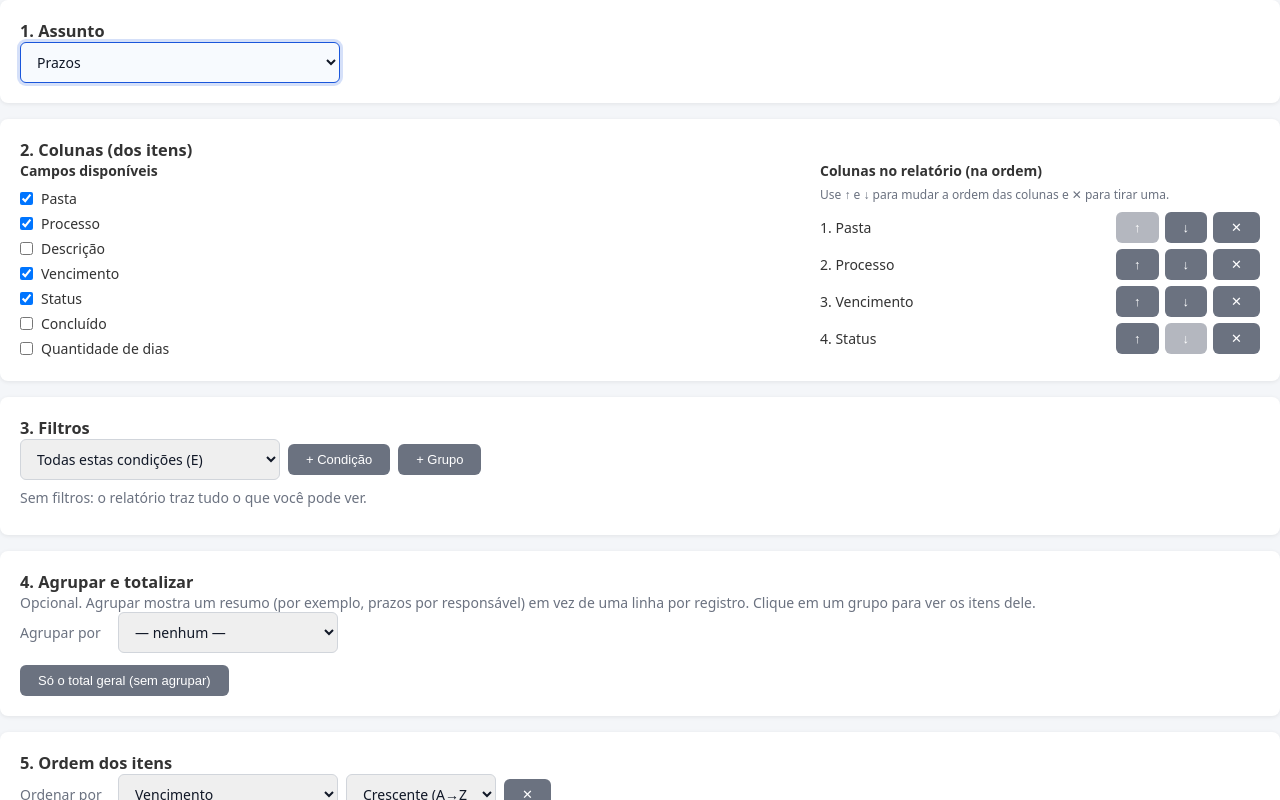
Relatórios (tela nova) › perguntar ao abrir: pergunta antes de rodar, só libera com tudo respondido e envia as respostas por caminho
Earlier steps of the test are not shown.
Click the button "+ Condição".
click(339, 460)  # box [288, 444, 390, 475]
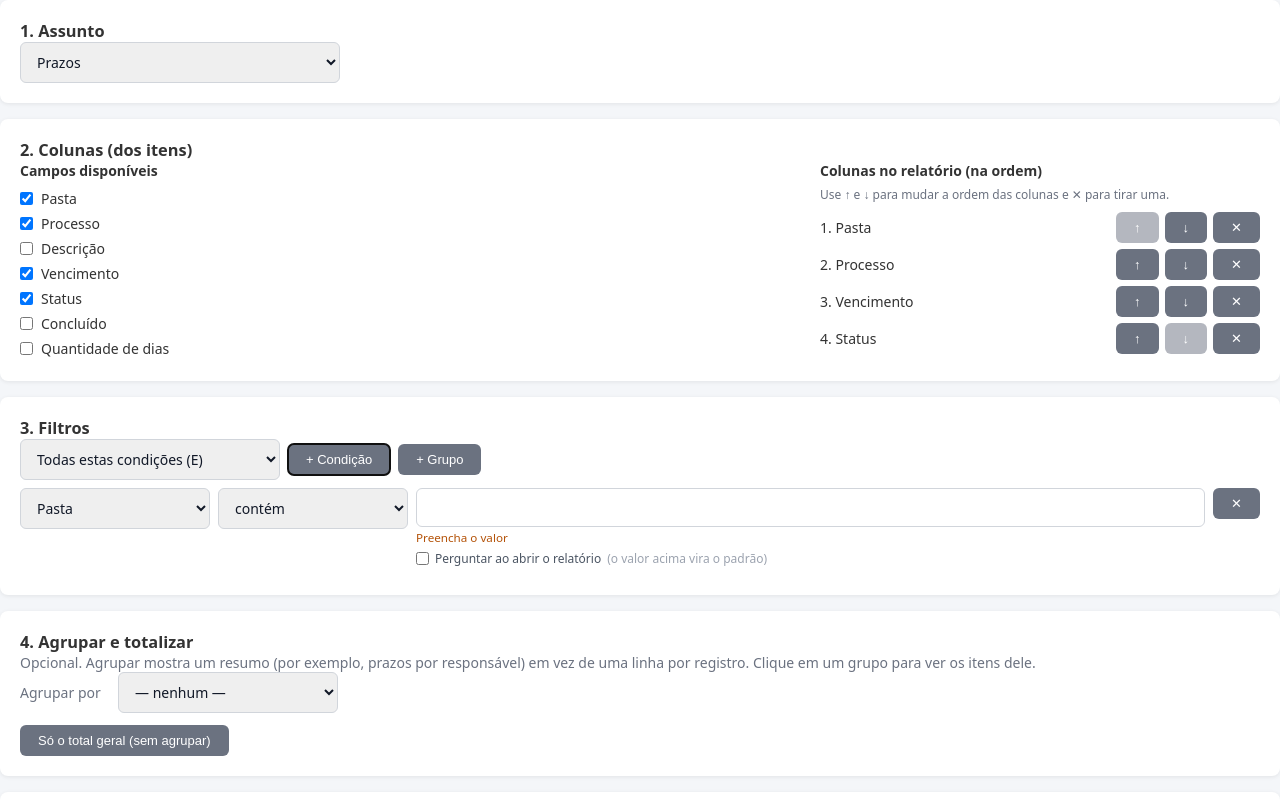
Click the checkbox labelled "Perguntar ao abrir o relatório (o valor acima vira o padrão)".
click(422, 558)  # box [416, 552, 429, 565]
(page scrolled)
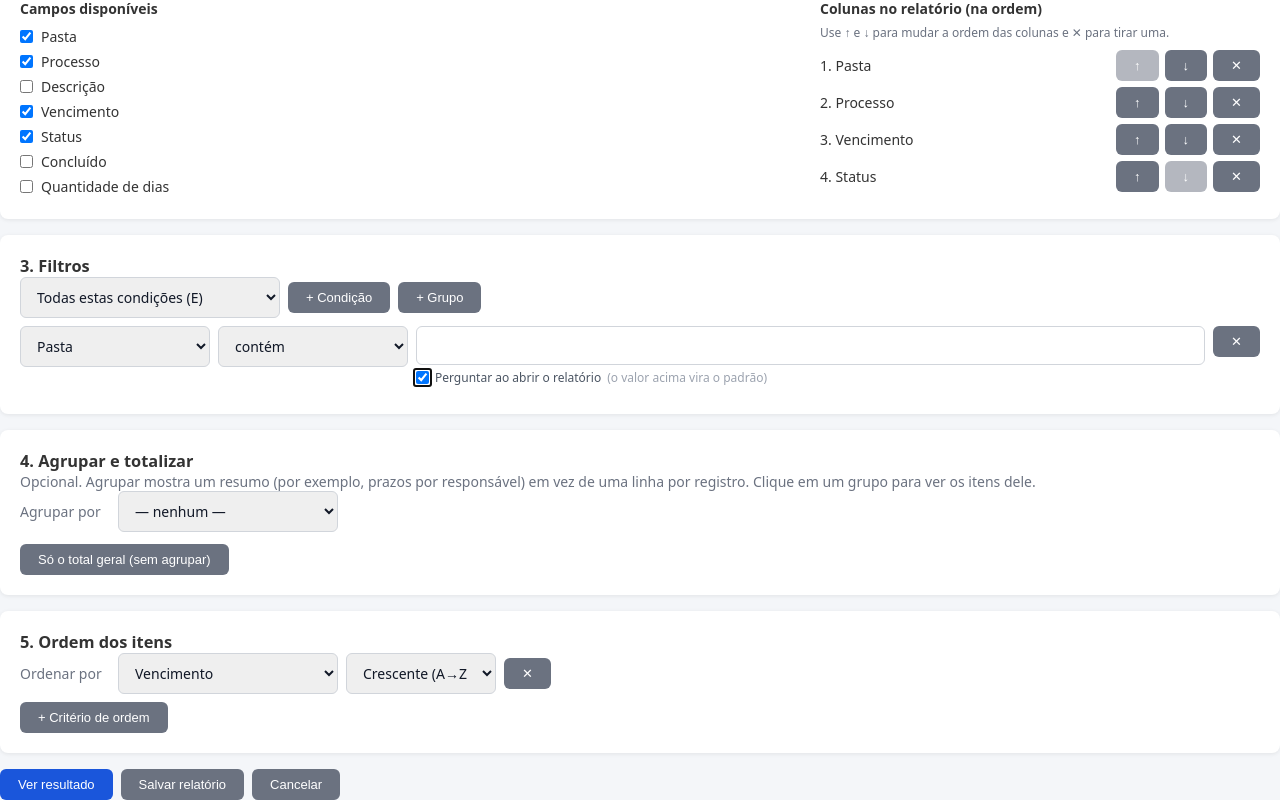
expect the text "Preencha o valor" is gone: met
Click the button "Ver resultado".
click(56, 784)  # box [0, 769, 113, 799]
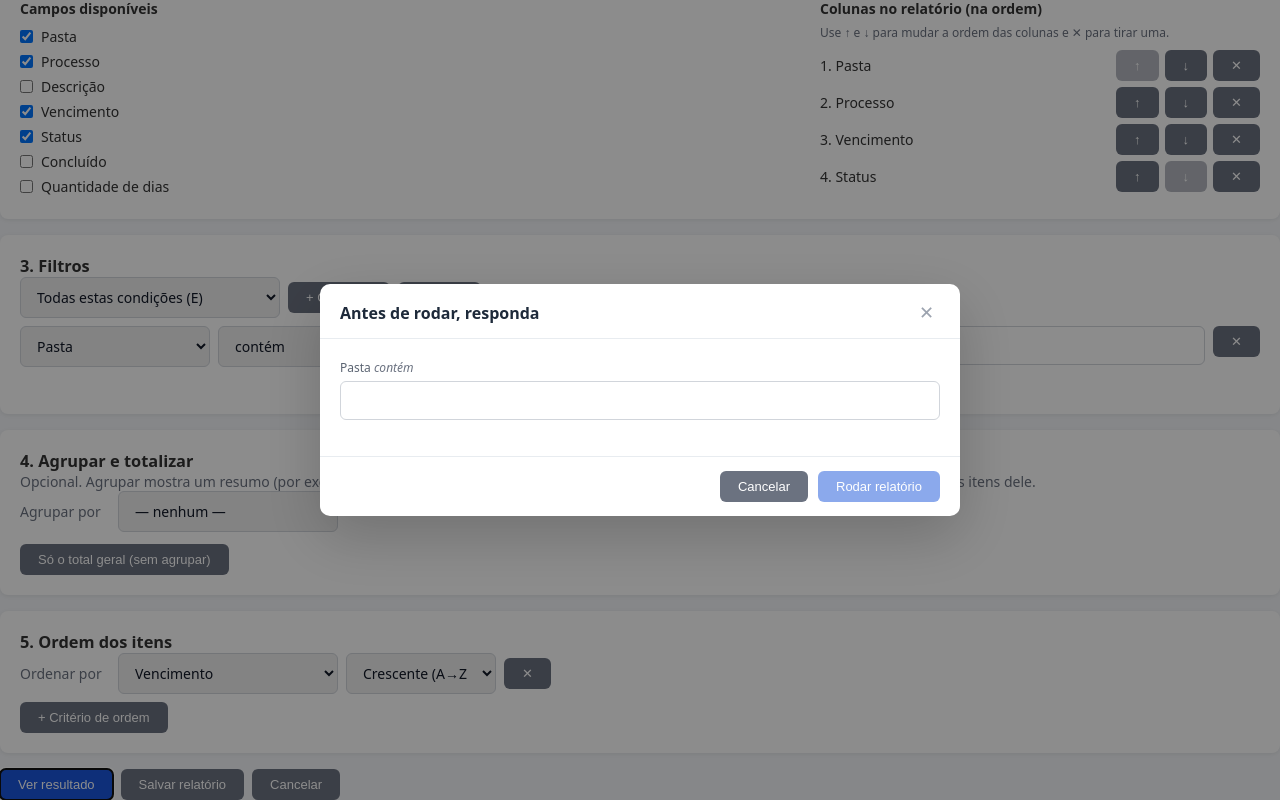
expect the button "Rodar relatório" is disabled: met, box [818, 471, 940, 502]
Type "8969" into the field named "Valor de Pasta".
click(640, 400); type("8969")  # box [340, 381, 940, 420]
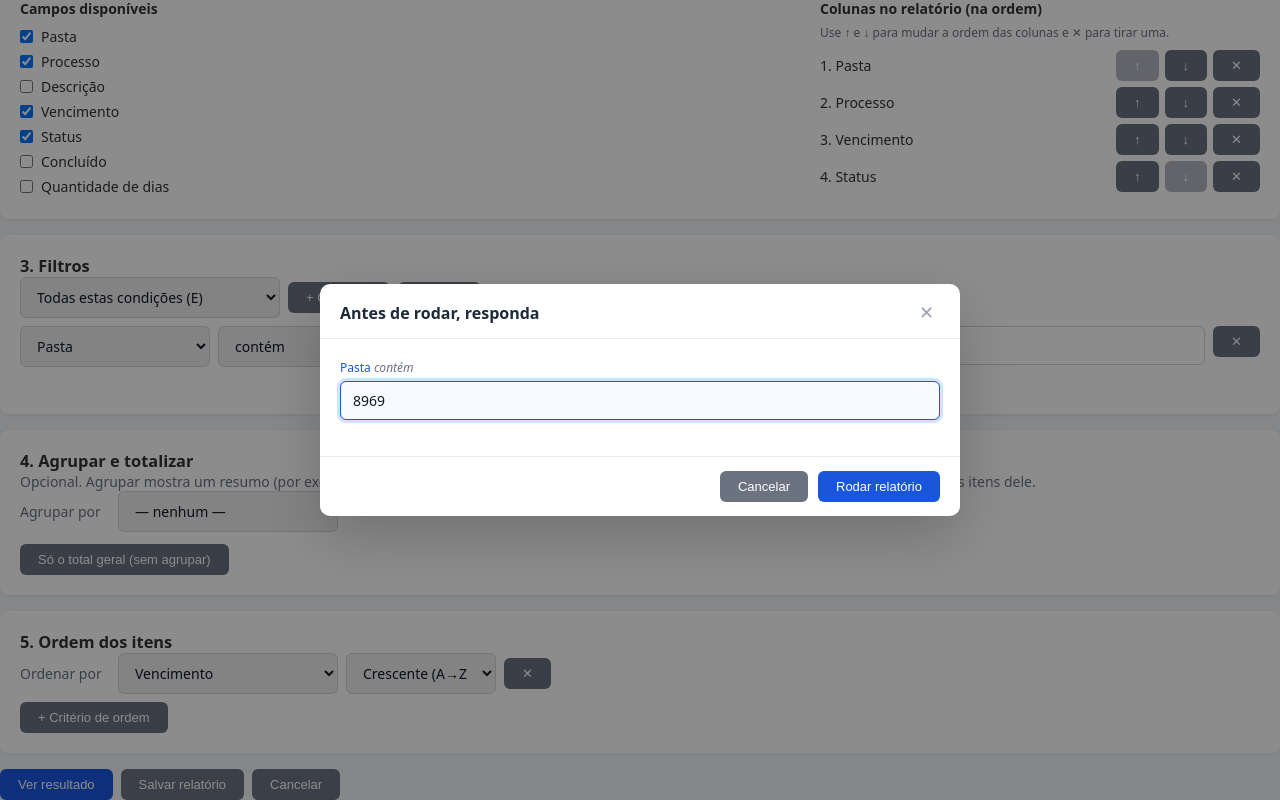
Click the button "Rodar relatório".
click(879, 486)  # box [818, 471, 940, 502]
(page scrolled)
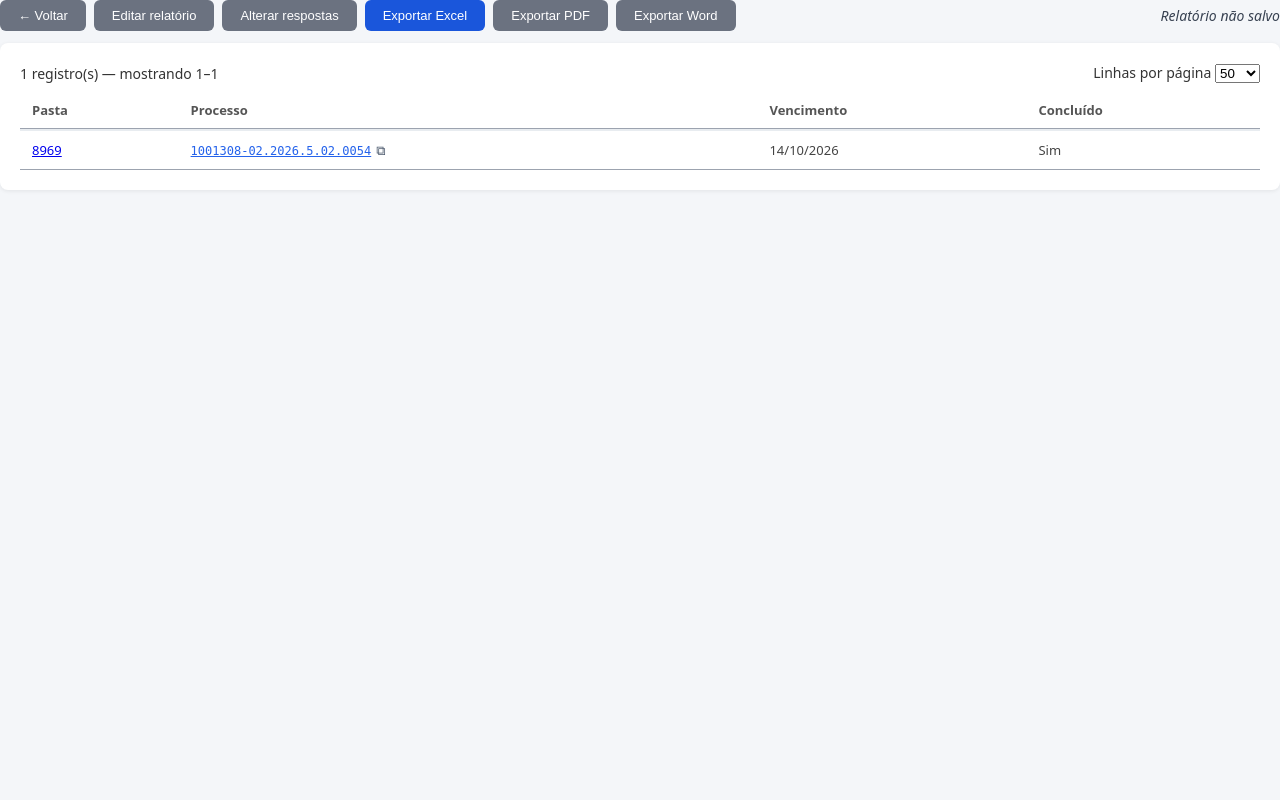
Click the button "Alterar respostas".
click(290, 16)  # box [222, 0, 357, 31]
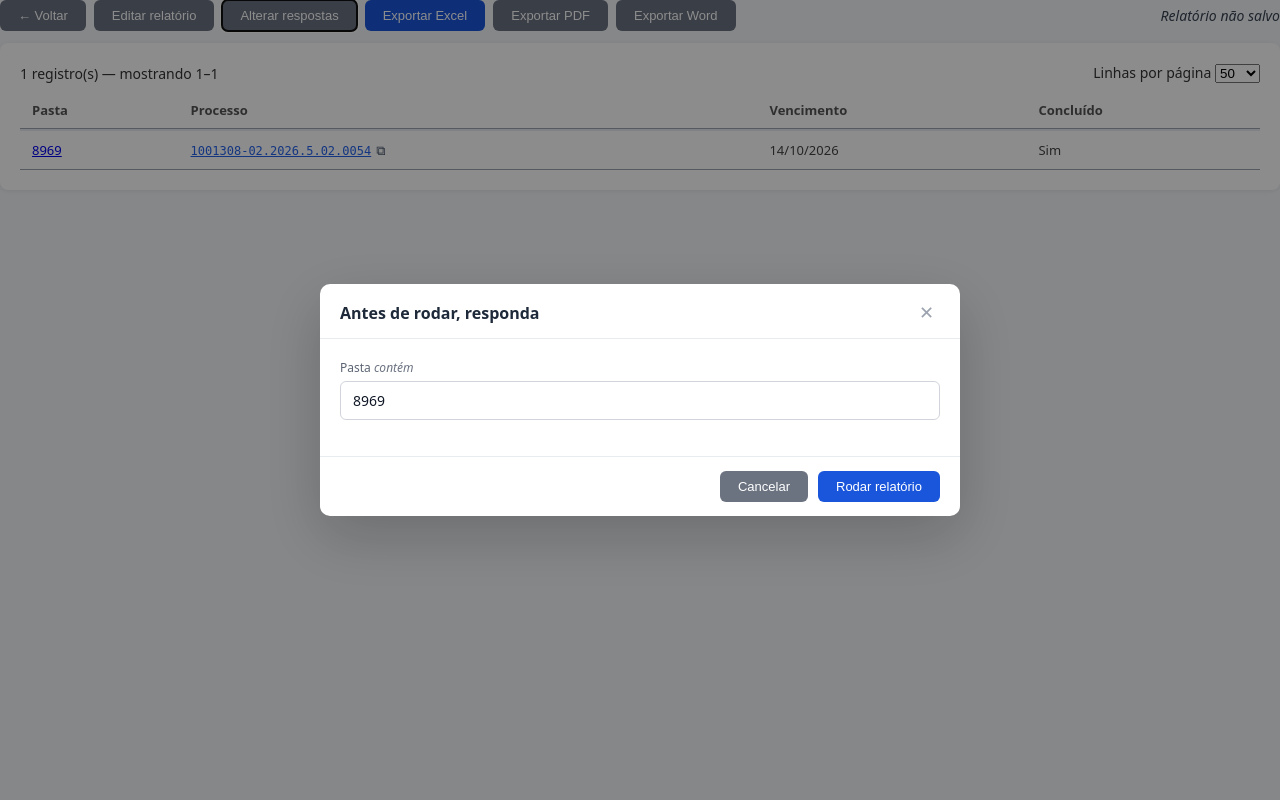
expect the field named "Valor de Pasta" holds "8969": met, box [340, 381, 940, 420]
